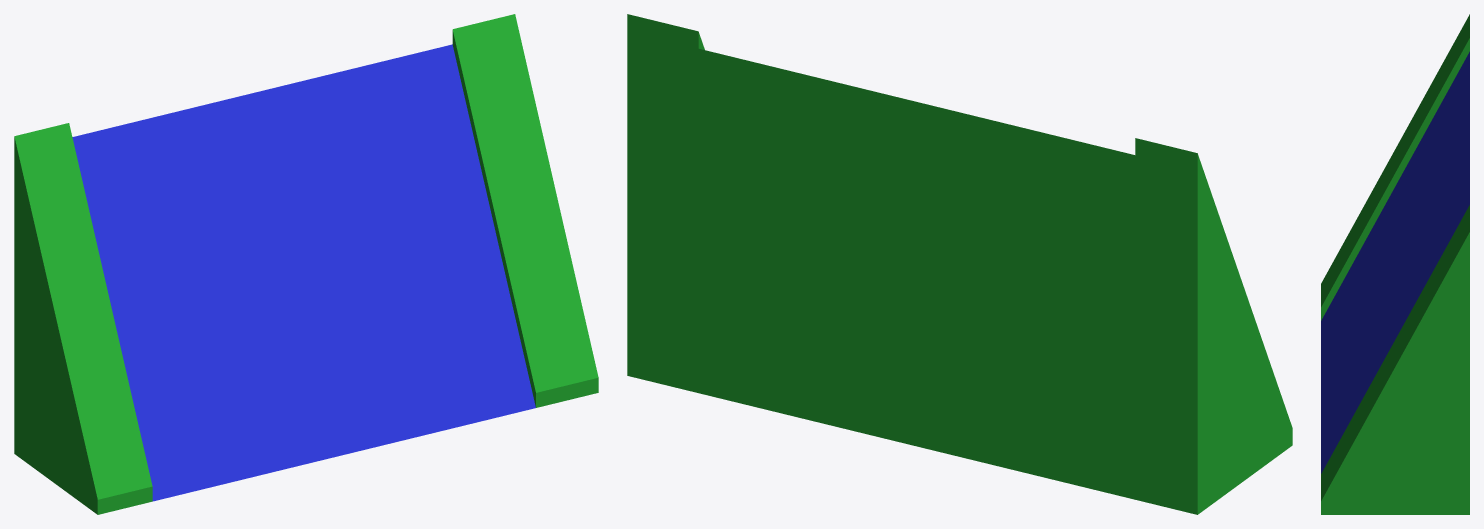
Rendered from module-edge_river_cliff_right_001.glb.
The picture shows the model from 3 angles, left to right: view 1: azimuth 30°, elevation 25°; view 2: azimuth 150°, elevation 25°; view 3: azimuth 270°, elevation 25°; orthographic projection. The views are drawn at different scales.
Parts seen in each view (by area): view 1: module-edge_river_cliff_right_001; view 2: module-edge_river_cliff_right_001; view 3: module-edge_river_cliff_right_001.
Boxes of the visible parts, box(x1,y1,x2,y2) form: module-edge_river_cliff_right_001: box(14, 14, 598, 514); module-edge_river_cliff_right_001: box(627, 14, 1292, 514); module-edge_river_cliff_right_001: box(1321, 14, 1469, 514).
Bounding box in the file's own units: 0.866 × 0.525 × 0.25.
